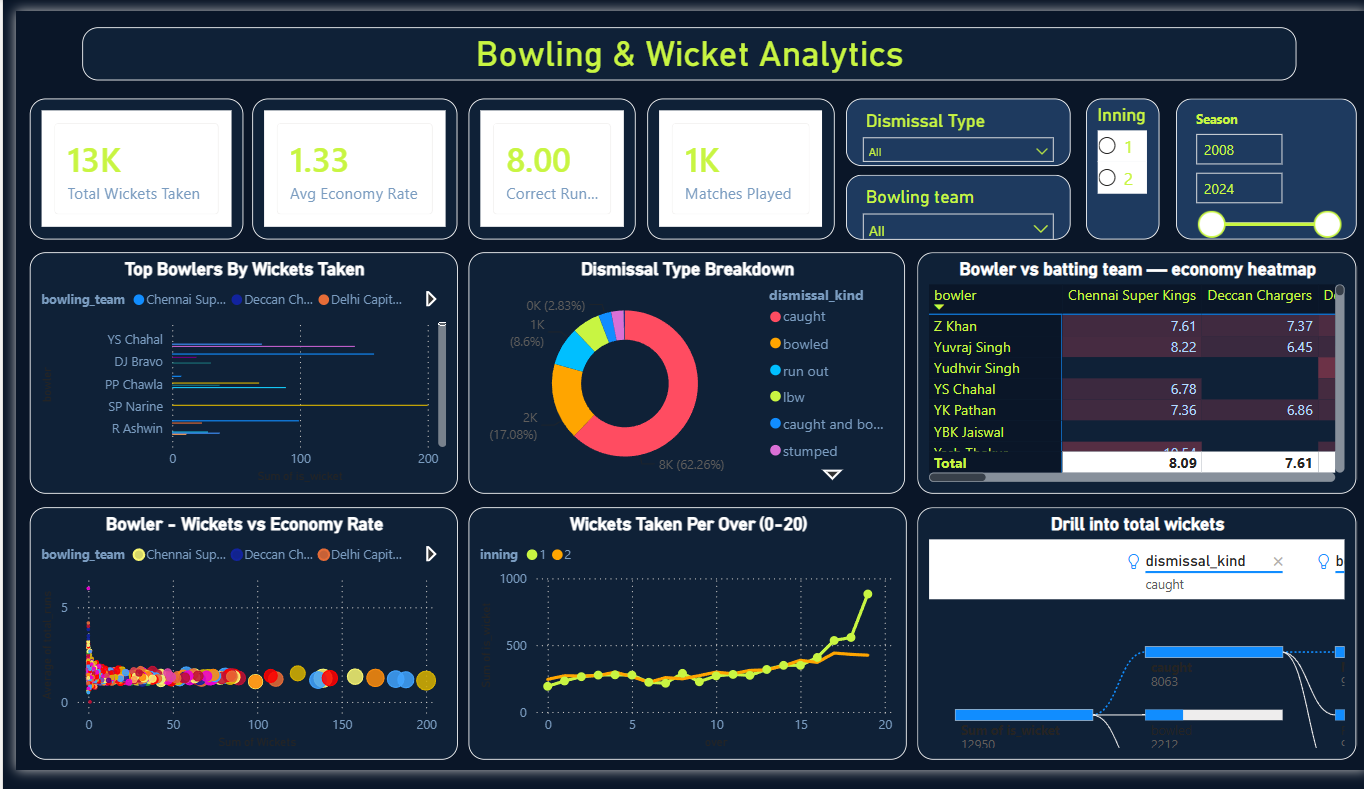

The page's visual inventory and layout, read from the dashboard file:
{"tool":"powerbi","page":{"name":"Page 3","canvas":[1280,720],"ordinal":2},"visuals":[{"type":"cardVisual","fields":{"Data":["deliveries.Total Wickets"]},"box":[12.8,82.6,202.3,133.7],"z":0},{"type":"cardVisual","fields":{"Data":["Avg(deliveries.total_runs)"]},"box":[224.4,82.6,194.2,133.7],"z":1000},{"type":"cardVisual","fields":{"Data":["deliveries.Correct Run Rate"]},"box":[429.1,82.6,158.1,133.7],"z":2000},{"type":"cardVisual","fields":{"Data":["deliveries.Matches Played"]},"box":[597.7,82.6,177.9,133.7],"z":3000},{"type":"clusteredBarChart","title":"Top Bowlers By Wickets Taken","fields":{"Category":["deliveries.bowler"],"Y":["Sum(deliveries.is_wicket)"],"Series":["deliveries.bowling_team"]},"box":[12.8,229.1,405.8,229.1],"z":4000},{"type":"donutChart","title":"Dismissal Type Breakdown","fields":{"Category":["deliveries.dismissal_kind"],"Y":["Sum(deliveries.is_wicket)"]},"box":[429.1,229.1,414,229.1],"z":5000},{"type":"scatterChart","title":"Bowler - Wickets vs Economy Rate","fields":{"X":["Sum(deliveries.is_wicket)"],"Y":["Avg(deliveries.total_runs)"],"Category":["deliveries.bowler"],"Size":["deliveries.Matches Played"],"Series":["deliveries.bowling_team"]},"box":[12.8,469.8,405.8,239.5],"z":6000},{"type":"lineChart","title":"Wickets Taken Per Over (0-20)","fields":{"Category":["deliveries.over"],"Y":["Sum(deliveries.is_wicket)"],"Series":["deliveries.inning"]},"box":[429.1,469.8,415.1,239.5],"z":7000},{"type":"pivotTable","title":"Bowler vs batting team — economy heatmap","fields":{"Rows":["deliveries.bowler"],"Columns":["deliveries.batting_team"],"Values":["deliveries.Bowler Economy Rate"]},"box":[853.5,229.1,416.3,229.1],"z":8000},{"type":"decompositionTreeVisual","title":"Drill into total wickets","fields":{"Analyze":["Sum(deliveries.is_wicket)"],"ExplainBy":["deliveries.dismissal_kind","deliveries.bowling_team","deliveries.over","deliveries.bowler"]},"box":[853.5,469.8,416.3,239.5],"z":9000},{"type":"slicer","title":"Bowling team","fields":{"Values":["deliveries.bowling_team"]},"box":[786,154.7,212.8,61.6],"z":10000},{"type":"slicer","fields":{"Values":["deliveries.dismissal_kind"]},"box":[786,82.6,212.8,64],"z":11000},{"type":"listSlicer","fields":{"Values":["deliveries.inning"]},"box":[1014,82.6,69.8,133.7],"z":12000},{"type":"slicer","fields":{"Values":["Sheet1.Season_Year"]},"box":[1098.8,82.6,170.9,133.7],"z":13000},{"type":"textbox","title":" Bowling & Wicket Analytics","box":[62.5,15,1150,50],"z":14000}]}

Visuals, with their boxes in screenshot pixels (x1, y1, x2, y2), scaled from the page's 1280x720 canvas onto the 1364x789 screenshot:
cardVisual - deliveries.Total Wickets: rect(14, 91, 229, 237)
cardVisual - Avg(deliveries.total_runs): rect(239, 91, 446, 237)
cardVisual - deliveries.Correct Run Rate: rect(457, 91, 626, 237)
cardVisual - deliveries.Matches Played: rect(637, 91, 826, 237)
"Top Bowlers By Wickets Taken" clusteredBarChart: rect(14, 251, 446, 502)
"Dismissal Type Breakdown" donutChart: rect(457, 251, 898, 502)
"Bowler - Wickets vs Economy Rate" scatterChart: rect(14, 515, 446, 777)
"Wickets Taken Per Over (0-20)" lineChart: rect(457, 515, 900, 777)
"Bowler vs batting team — economy heatmap" pivotTable: rect(910, 251, 1353, 502)
"Drill into total wickets" decompositionTreeVisual: rect(910, 515, 1353, 777)
"Bowling team" slicer: rect(838, 170, 1064, 237)
slicer - deliveries.dismissal_kind: rect(838, 91, 1064, 161)
listSlicer - deliveries.inning: rect(1081, 91, 1155, 237)
slicer - Sheet1.Season_Year: rect(1171, 91, 1353, 237)
" Bowling & Wicket Analytics" textbox: rect(67, 16, 1292, 71)
